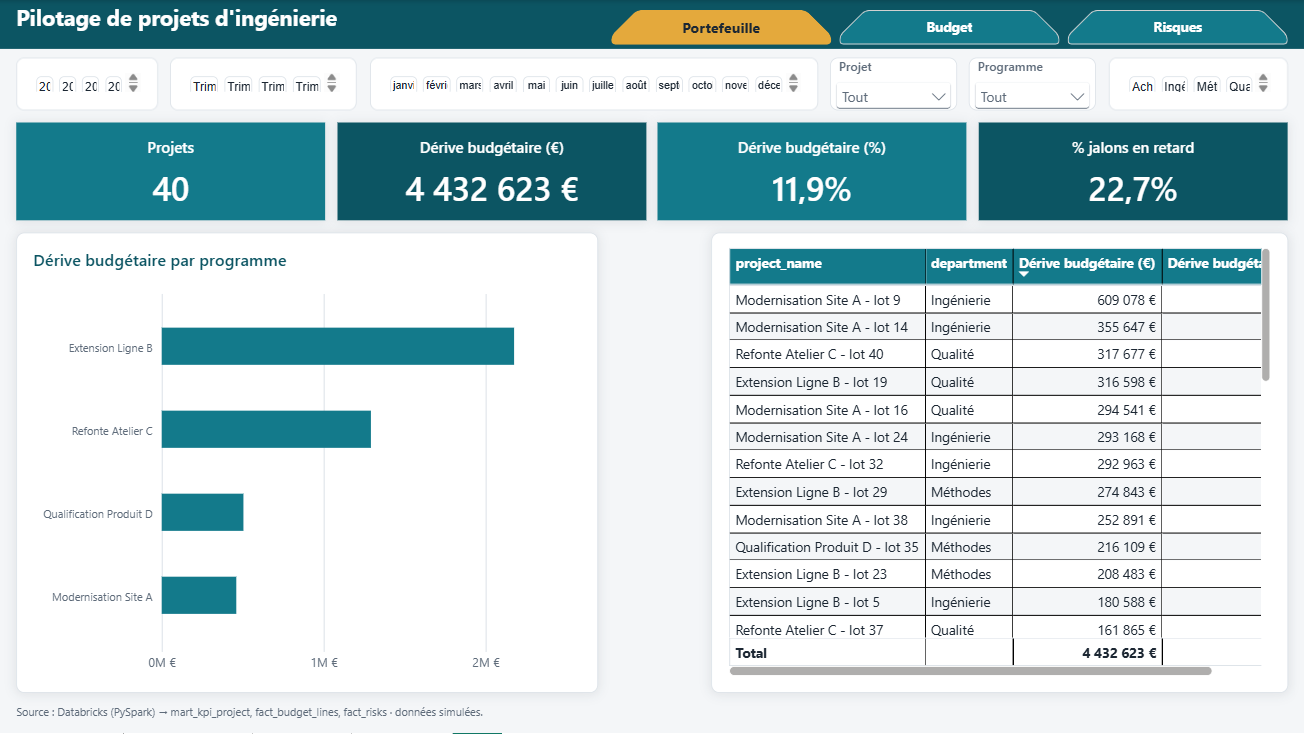

Layout of this report page (visuals, bound fields, positions):
{"tool":"powerbi","page":{"name":"Portefeuille","canvas":[1280,720],"ordinal":0},"visuals":[{"type":"shape","box":[0,0,1280,48],"z":0},{"type":"textbox","box":[16,2,570,46],"z":100},{"type":"pageNavigator","box":[600,10,664,34],"z":200},{"type":"card","title":"Projets","fields":{"Values":["mart_kpi_project.Nb projets"]},"box":[16,120,303,96],"z":900},{"type":"card","title":"Dérive budgétaire (€)","fields":{"Values":["mart_kpi_project.Dérive budgétaire (€)"]},"box":[331,120,303,96],"z":1000},{"type":"ChicletSlicer1448559807354","fields":{"Category":["fact_budget_lines.month.Variation.Hiérarchie de dates.Année"]},"box":[16,56,139.3,52],"z":1003},{"type":"ChicletSlicer1448559807354","fields":{"Category":["fact_budget_lines.month.Variation.Hiérarchie de dates.Trimestre"]},"box":[167.3,56,183.3,52],"z":1004},{"type":"ChicletSlicer1448559807354","fields":{"Category":["fact_budget_lines.month.Variation.Hiérarchie de dates.Mois"]},"box":[362.7,56,440,52],"z":1005},{"type":"slicer","fields":{"Values":["mart_kpi_project.project_name"]},"box":[814.7,56,124.7,52],"z":1006},{"type":"slicer","fields":{"Values":["mart_kpi_project.program"]},"box":[951.3,56,124.7,52],"z":1007},{"type":"ChicletSlicer1448559807354","fields":{"Category":["mart_kpi_project.department"]},"box":[1088,56,176,52],"z":1008},{"type":"card","title":"Dérive budgétaire (%)","fields":{"Values":["mart_kpi_project.Dérive budgétaire (%)"]},"box":[646,120,303,96],"z":1100},{"type":"card","title":"% jalons en retard","fields":{"Values":["mart_kpi_project.% jalons en retard (moyenne)"]},"box":[961,120,303,96],"z":1200},{"type":"textbox","box":[16,688,1248,30],"z":1500},{"type":"tableEx","fields":{"Values":["mart_kpi_project.project_name","mart_kpi_project.department","mart_kpi_project.Dérive budgétaire (€)","mart_kpi_project.Dérive budgétaire (%)"]},"box":[697.7,228,566.3,452],"z":5013},{"type":"barChart","title":"Dérive budgétaire par programme","fields":{"Category":["mart_kpi_project.program"],"Y":["mart_kpi_project.Dérive budgétaire (€)"]},"box":[16,228,571.4,452],"z":5014}]}

Visuals, with their boxes in screenshot pixels (x1, y1, x2, y2), scaled from the page's 1280x720 canvas onto the 1304x734 screenshot:
shape: {"x1": 0, "y1": 0, "x2": 1303, "y2": 49}
textbox: {"x1": 16, "y1": 2, "x2": 597, "y2": 49}
pageNavigator: {"x1": 611, "y1": 10, "x2": 1288, "y2": 45}
"Projets" card: {"x1": 16, "y1": 122, "x2": 325, "y2": 220}
"Dérive budgétaire (€)" card: {"x1": 337, "y1": 122, "x2": 646, "y2": 220}
ChicletSlicer1448559807354 - fact_budget_lines.month.Variation.Hiérarchie de dates.Année: {"x1": 16, "y1": 57, "x2": 158, "y2": 110}
ChicletSlicer1448559807354 - fact_budget_lines.month.Variation.Hiérarchie de dates.Trimestre: {"x1": 170, "y1": 57, "x2": 357, "y2": 110}
ChicletSlicer1448559807354 - fact_budget_lines.month.Variation.Hiérarchie de dates.Mois: {"x1": 370, "y1": 57, "x2": 818, "y2": 110}
slicer - mart_kpi_project.project_name: {"x1": 830, "y1": 57, "x2": 957, "y2": 110}
slicer - mart_kpi_project.program: {"x1": 969, "y1": 57, "x2": 1096, "y2": 110}
ChicletSlicer1448559807354 - mart_kpi_project.department: {"x1": 1108, "y1": 57, "x2": 1288, "y2": 110}
"Dérive budgétaire (%)" card: {"x1": 658, "y1": 122, "x2": 967, "y2": 220}
"% jalons en retard" card: {"x1": 979, "y1": 122, "x2": 1288, "y2": 220}
textbox: {"x1": 16, "y1": 701, "x2": 1288, "y2": 732}
tableEx - mart_kpi_project.project_name x mart_kpi_project.department: {"x1": 711, "y1": 232, "x2": 1288, "y2": 693}
"Dérive budgétaire par programme" barChart: {"x1": 16, "y1": 232, "x2": 598, "y2": 693}
